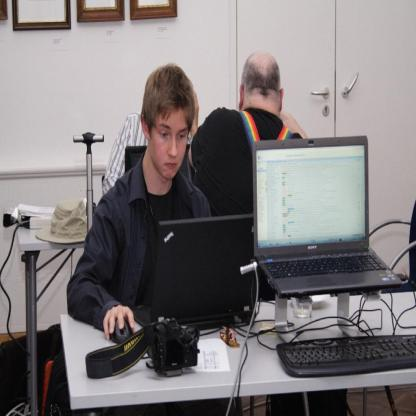board: (248, 137, 395, 323), (135, 210, 257, 335)
